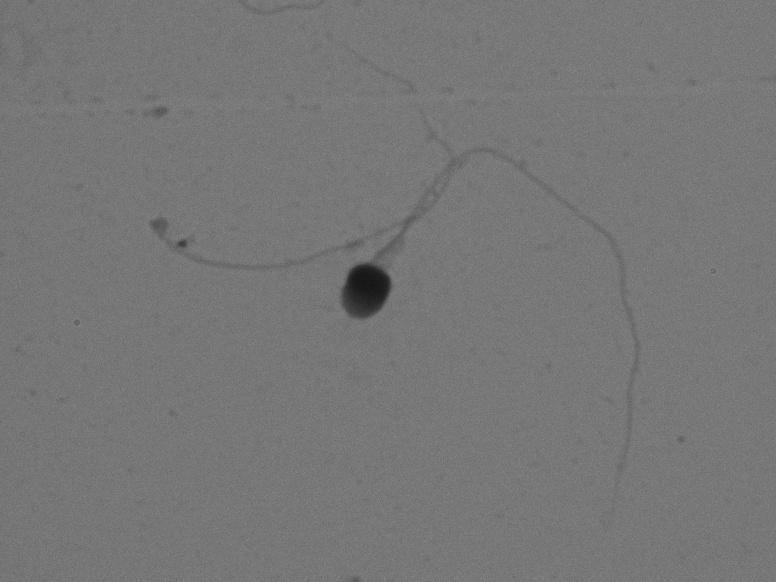Abnormal: (321, 103, 686, 538), (103, 22, 488, 296)
